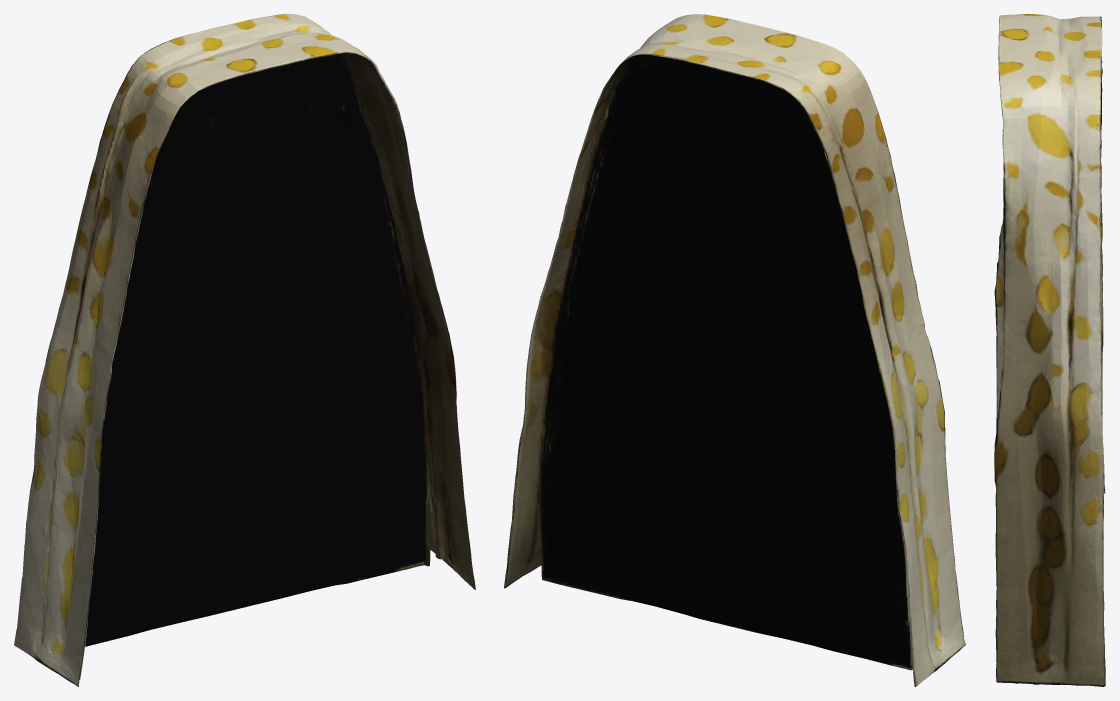
File: 7aaa5bd9-c3e6-43af-985d-368cc0c8e7ec.glb
The picture shows the model from 3 angles, left to right: view 1: azimuth 30°, elevation 25°; view 2: azimuth 150°, elevation 25°; view 3: azimuth 270°, elevation 25°; orthographic projection. The views are drawn at different scales.
Parts seen in each view (by area): view 1: world; view 2: world; view 3: world.
Boxes of the visible parts, box(x1,y1,x2,y2) form: world: box(14, 14, 475, 686); world: box(504, 14, 965, 686); world: box(994, 14, 1105, 686).
Bounding box in the file's own units: 0.7552 × 1 × 0.1854.
1 material, 1 textured.
